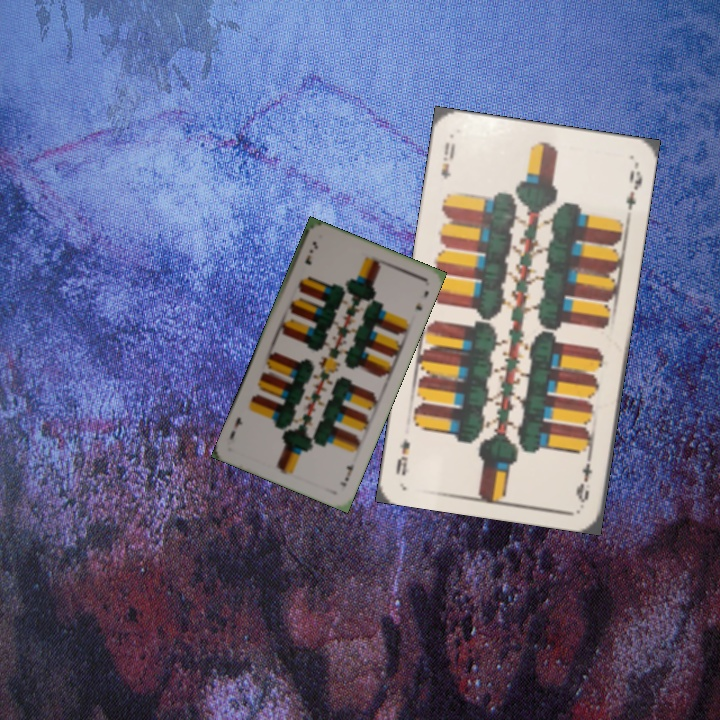E7: (336, 459, 356, 489), (301, 237, 320, 267)
E9: (571, 447, 595, 506), (436, 138, 458, 181)
